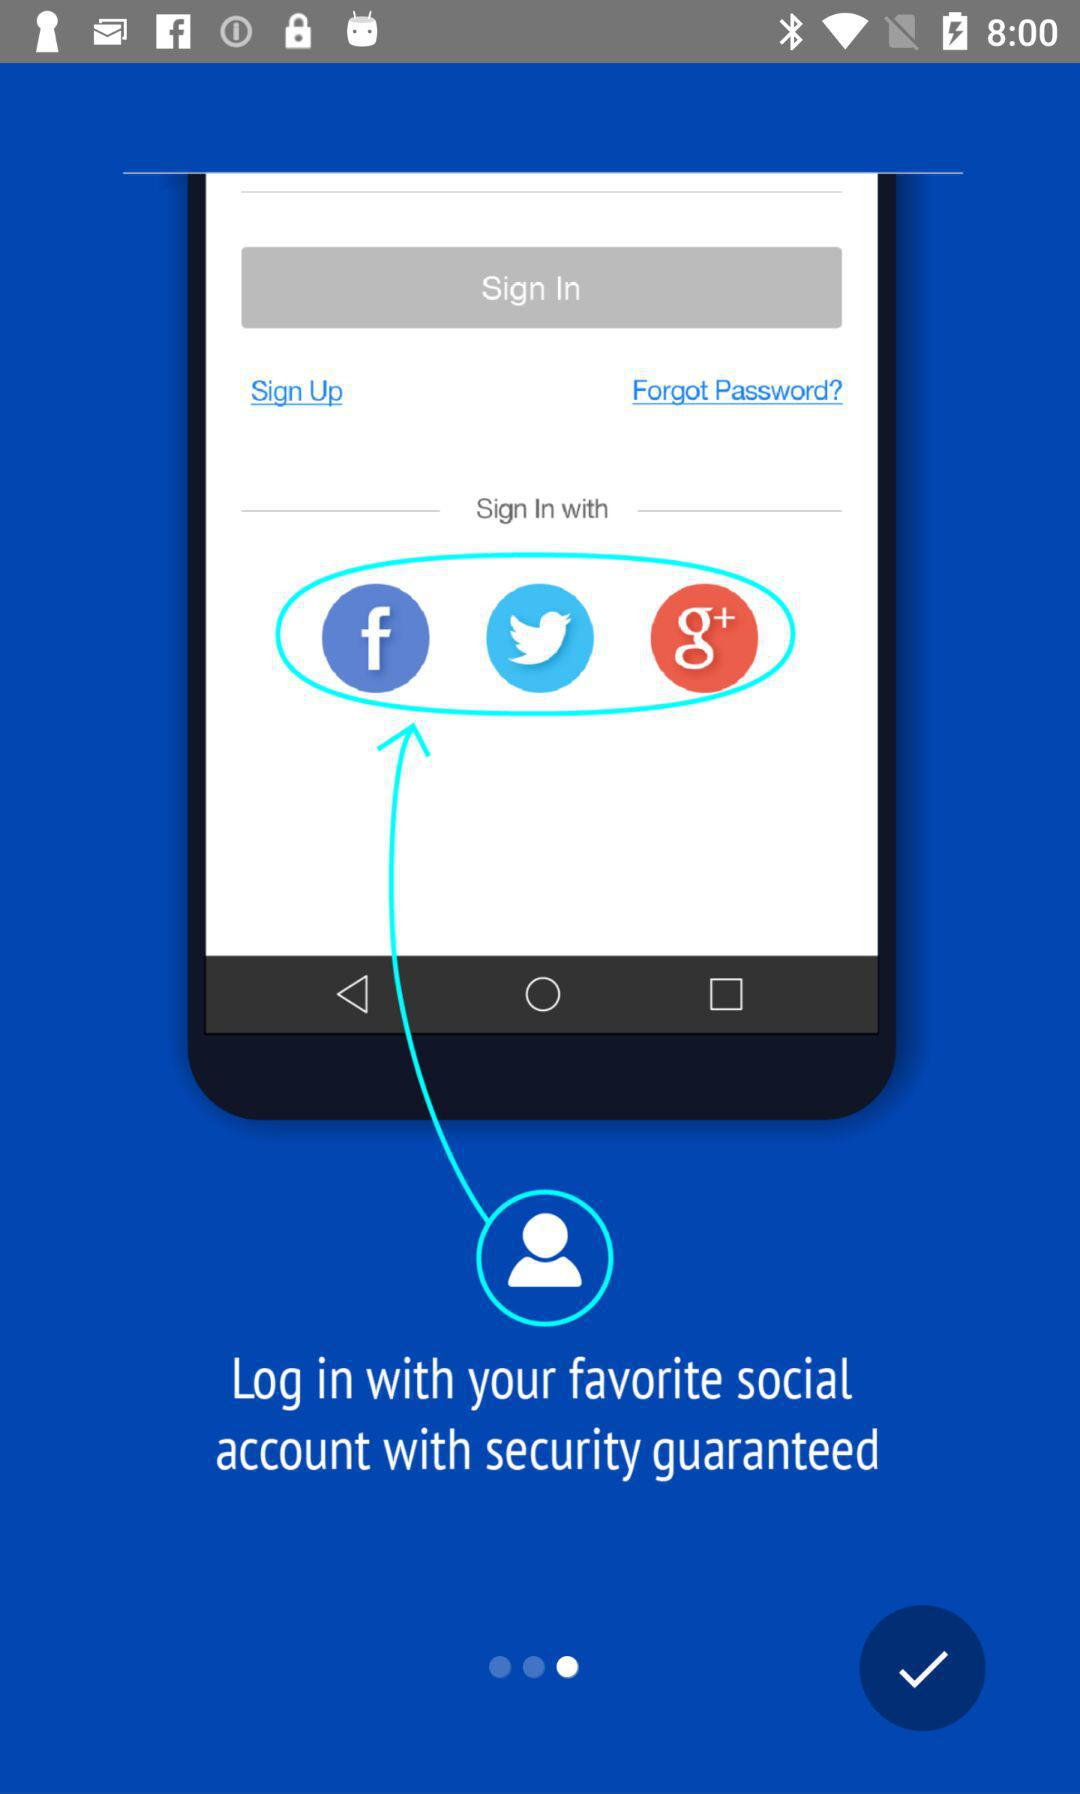Icon: (858, 1606, 986, 1732)
Image: (188, 173, 897, 1328)
PageIndicator: (488, 1656, 580, 1680)
Text: (217, 1354, 879, 1484)
UpperTaskBar: (1, 1, 1080, 64)
